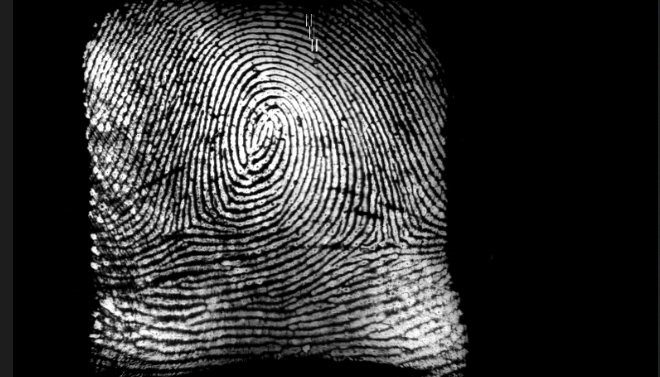deltas: (356, 204, 415, 266), (157, 193, 207, 252)
nucleo: (239, 100, 287, 157)
